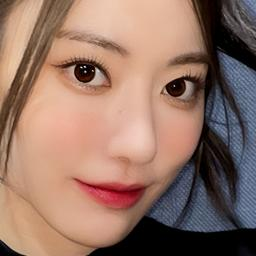face: (12, 0, 204, 246)
